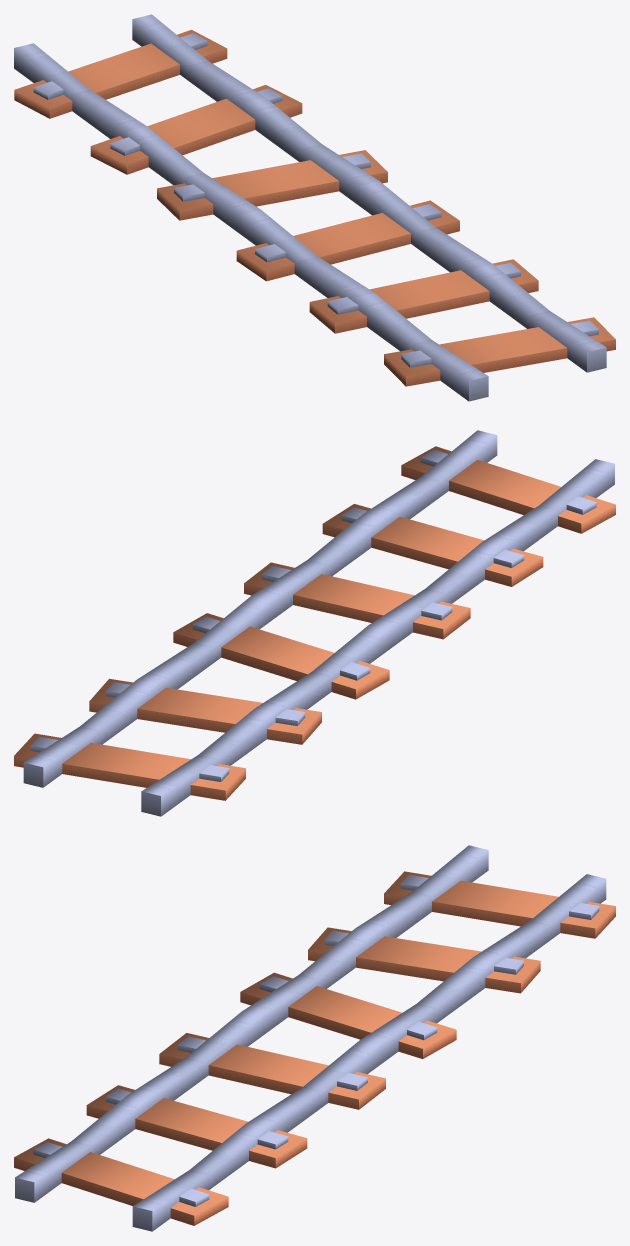
The model's file is railroad-damaged-straight.glb.
3 renders of one model, top to bottom at view 1: azimuth 30°, elevation 25°; view 2: azimuth 150°, elevation 25°; view 3: azimuth 330°, elevation 25°, orthographic.
Parts seen in each view (by area): view 1: railroad-damaged-straight; view 2: railroad-damaged-straight; view 3: railroad-damaged-straight.
Part boxes in pixels (x1=…): railroad-damaged-straight: x1=14, y1=14, x2=615, y2=401; railroad-damaged-straight: x1=14, y1=430, x2=615, y2=816; railroad-damaged-straight: x1=14, y1=845, x2=615, y2=1231.
Size of the model in its own units: 1.03 by 0.1 by 4.
Materials: 1 (1 with a texture image).
